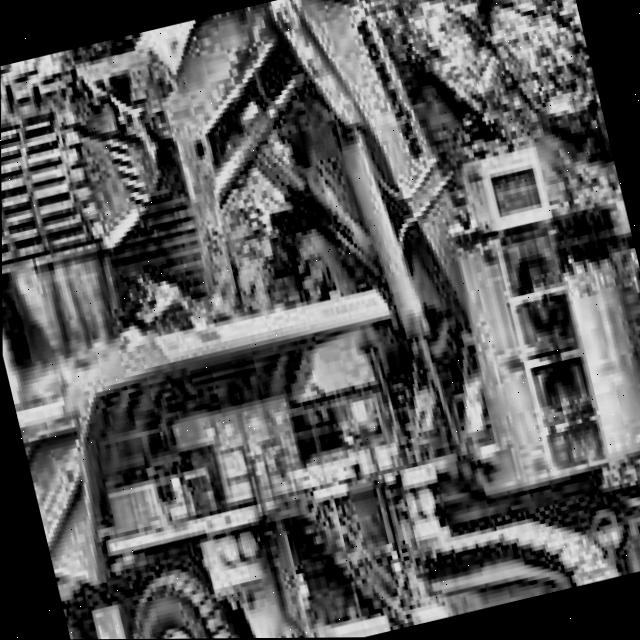dump_truck: (2, 257, 463, 640)
